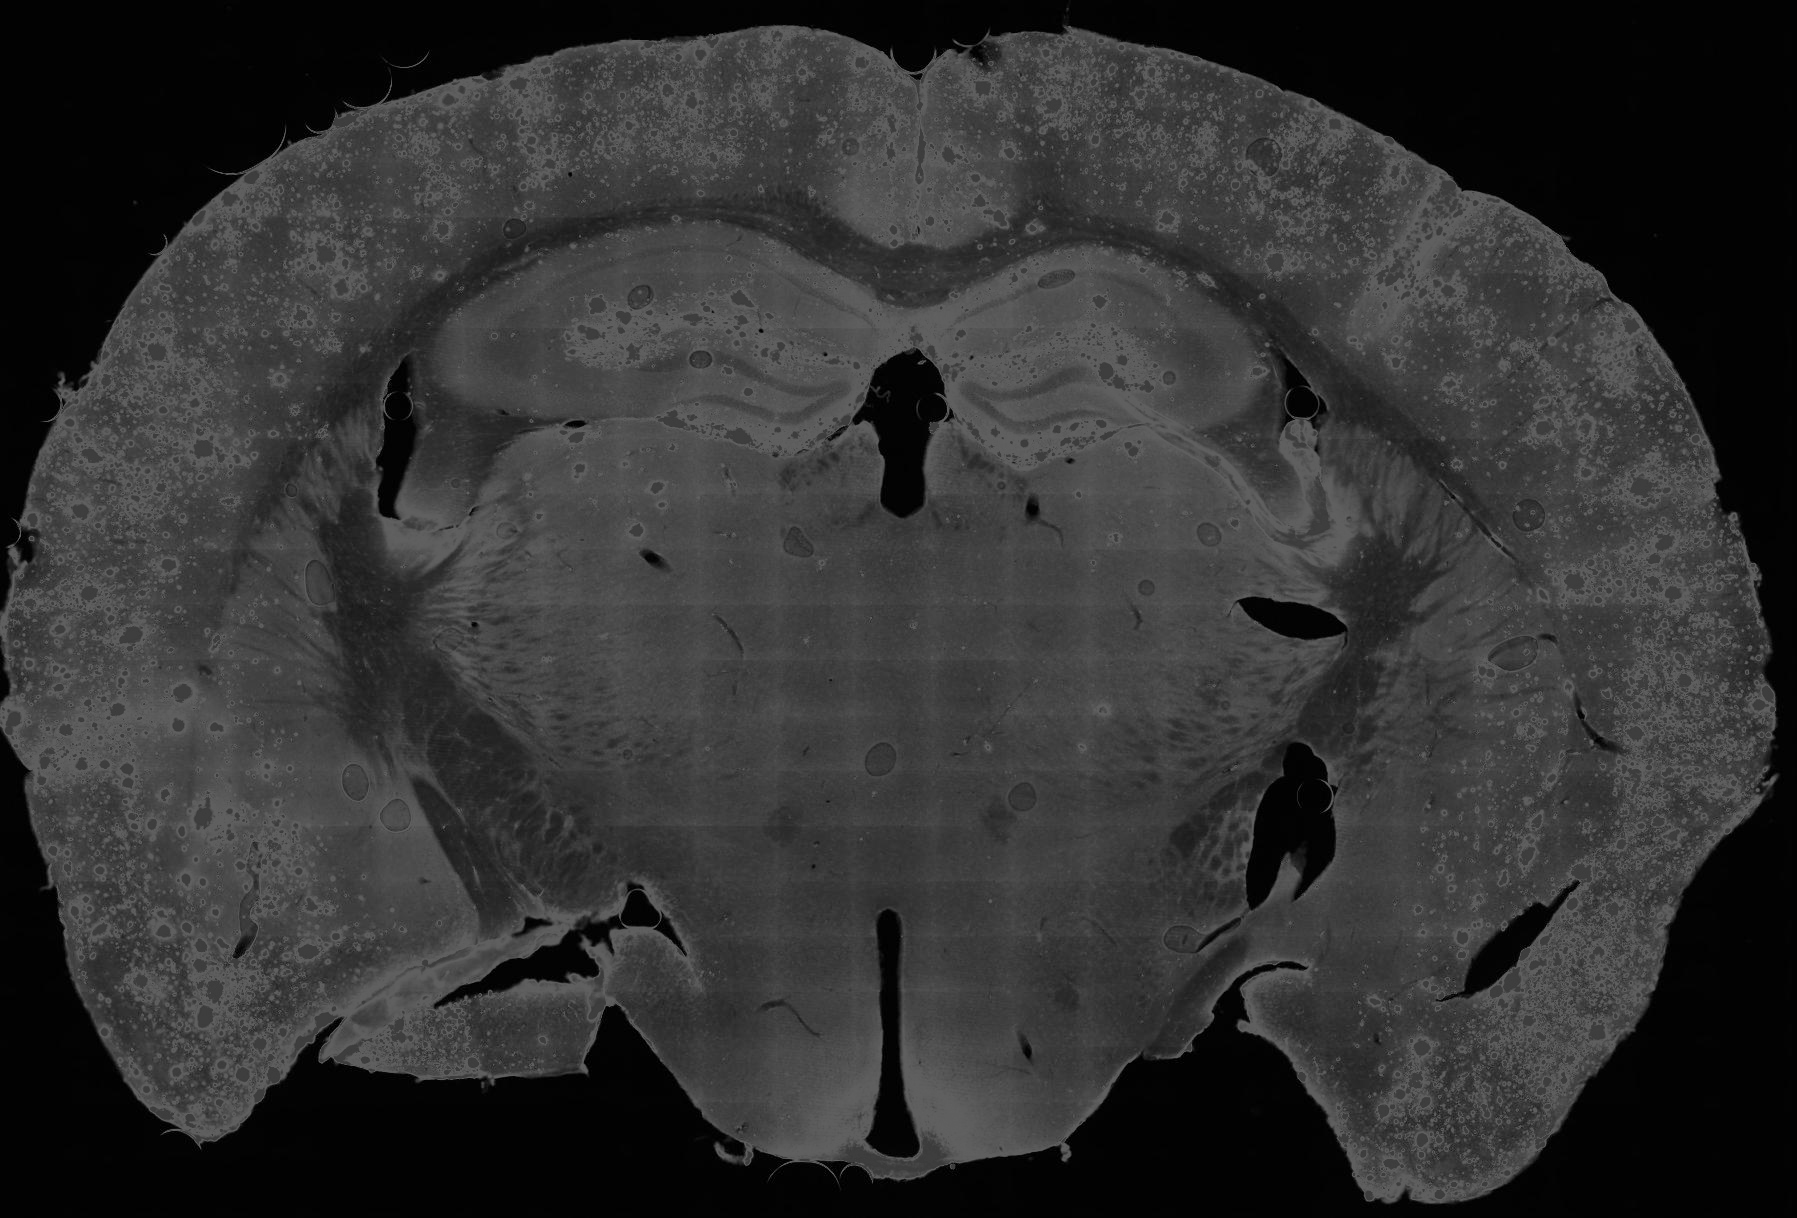Cerebral nuclei: (1319, 417, 1573, 875), (216, 402, 379, 840)
Hippocampal formation: (431, 219, 913, 454), (913, 245, 1264, 465)
Hypothalamus: (889, 750, 1270, 1185), (508, 763, 894, 1164)
Retrosplenial area: (812, 35, 918, 249), (918, 43, 1024, 251)
Somatosensory area: (73, 39, 691, 491), (1113, 43, 1699, 517)
Thalamus: (406, 417, 903, 837), (889, 420, 1354, 835)
